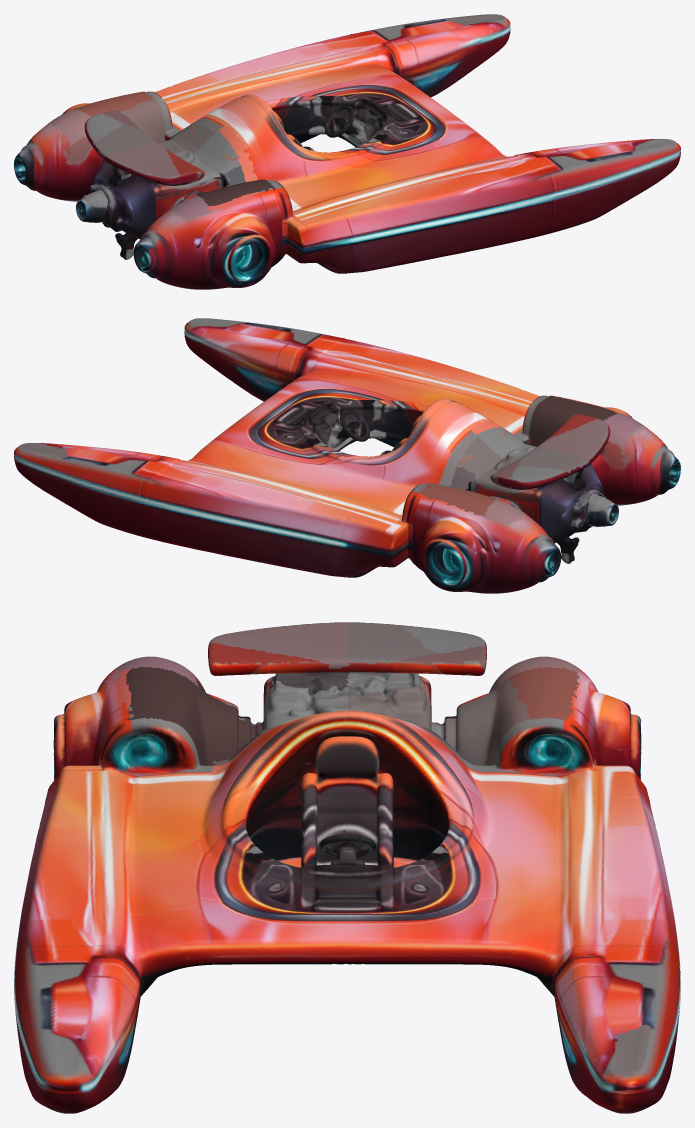
Rendered from redcar_fixed.glb.
3 views of the same model, one above another, from view 1: azimuth 30°, elevation 25°; view 2: azimuth 150°, elevation 25°; view 3: azimuth 270°, elevation 25° (orthographic). The views are drawn at different scales.
Parts seen in each view (by area): view 1: tripo_node_e6f0a7ff-d330-41b3-9c43-1c116a57b0e3; view 2: tripo_node_e6f0a7ff-d330-41b3-9c43-1c116a57b0e3; view 3: tripo_node_e6f0a7ff-d330-41b3-9c43-1c116a57b0e3.
Part boxes in pixels (<box>): tripo_node_e6f0a7ff-d330-41b3-9c43-1c116a57b0e3: <box>14,14,680,289</box>; tripo_node_e6f0a7ff-d330-41b3-9c43-1c116a57b0e3: <box>14,318,680,593</box>; tripo_node_e6f0a7ff-d330-41b3-9c43-1c116a57b0e3: <box>14,622,680,1113</box>.
Bounding box in the file's own units: 1 × 0.236 × 0.685.
1 material, 1 textured.
